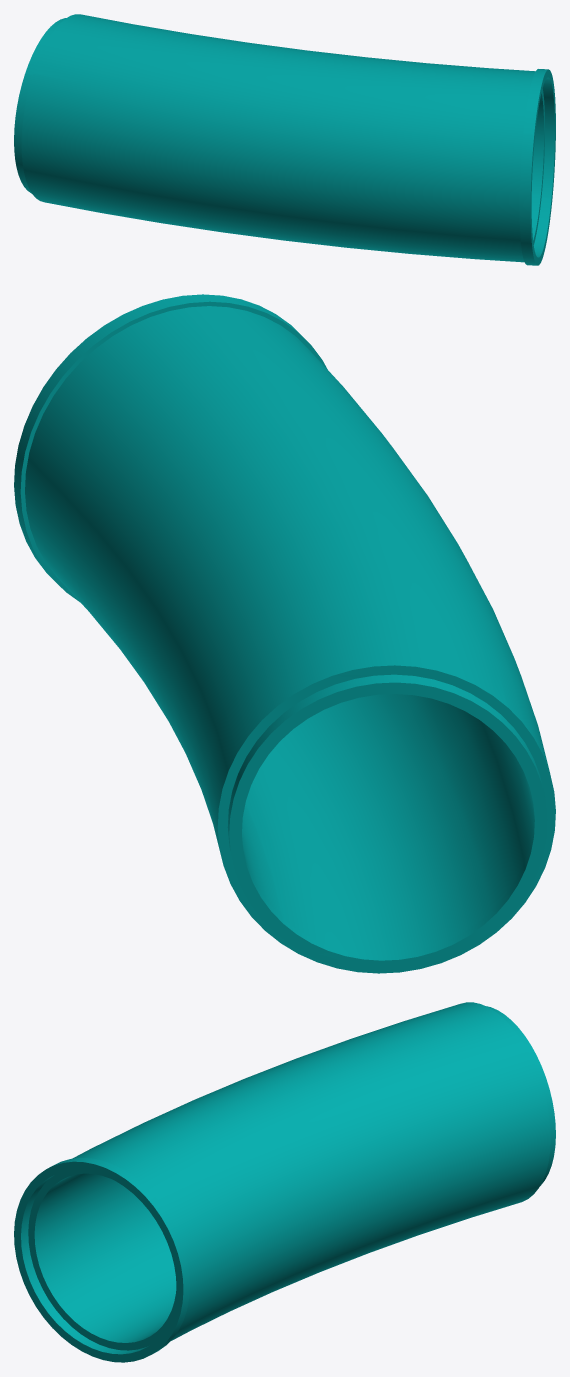
The model's file is Pipe_D.fbx.
The picture shows the model from 3 angles, top to bottom: view 1: azimuth 30°, elevation 25°; view 2: azimuth 150°, elevation 25°; view 3: azimuth 270°, elevation 25°; orthographic projection. The views are drawn at different scales.
Visible parts, largest first — view 1: Pipe_D; view 2: Pipe_D; view 3: Pipe_D.
Boxes of the visible parts, x1,y1,x2,y2 form: Pipe_D: (14,14,555,265); Pipe_D: (14,294,555,973); Pipe_D: (14,1002,555,1362).
Bounding box in the file's own units: 272 × 110 × 279.
